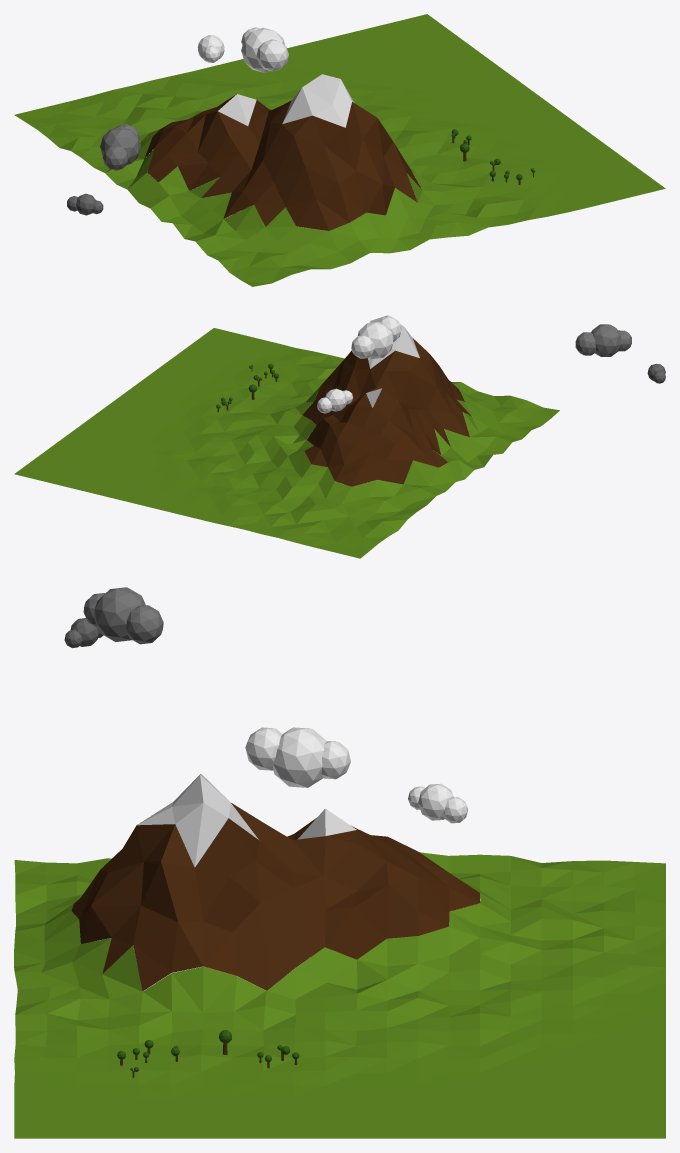
File: mountain-scene.glb
The picture shows the model from 3 angles, top to bottom: view 1: azimuth 30°, elevation 25°; view 2: azimuth 150°, elevation 25°; view 3: azimuth 270°, elevation 25°; orthographic projection. The views are drawn at different scales.
Visible parts, largest first — view 1: Plane (×6); view 2: Plane (×5); view 3: Plane (×5).
Part boxes in pixels (x1,y1,x2,y2): Plane (×6): (14, 14, 665, 286); Plane (×5): (14, 315, 631, 558); Plane (×5): (14, 587, 665, 1138).
Bounding box in the file's own units: 19.3 × 5.04 × 14.05.
